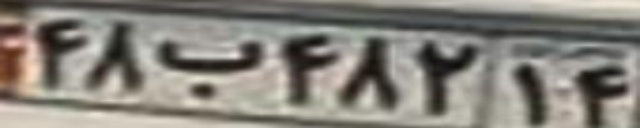1: (514, 63, 548, 123)
2: (418, 41, 476, 116)
4: (280, 30, 337, 104), (38, 17, 84, 89), (575, 66, 628, 126)
8: (342, 37, 400, 106), (89, 19, 140, 91)
be: (156, 38, 262, 98)
